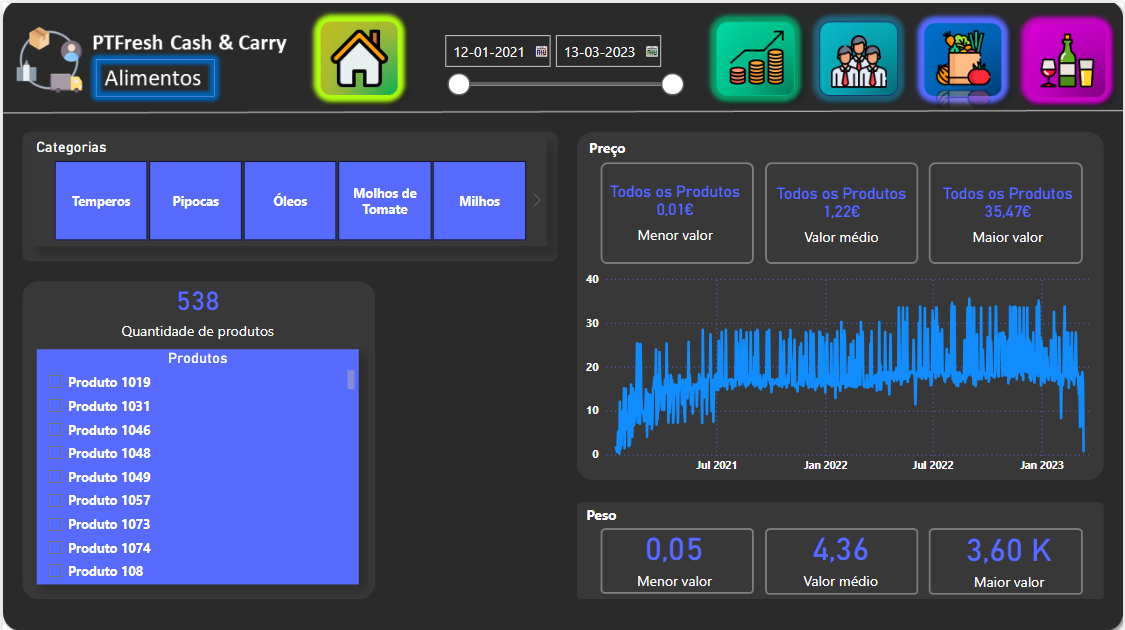

The page's visual inventory and layout, read from the dashboard file:
{"tool":"powerbi","page":{"name":"Alimentos","canvas":[1280,720],"ordinal":3},"visuals":[{"type":"slicer","title":"Produtos","fields":{"Values":["Alimentos.Nome Produto"]},"box":[37.9,395.8,368.3,268.5],"z":0},{"type":"card","title":"Preço Unitário Mínimo","fields":{"Values":["Medidas.Quantidade de alimentos"]},"box":[37.9,309.8,368.3,79.2],"z":1000},{"type":"slicer","title":"Categorias","fields":{"Values":["Alimentos.Categoria Produto"]},"box":[32.7,154.9,588.5,123.9],"z":2000},{"type":"lineChart","title":"Evolução do Preço Unitário","fields":{"Y":["Medidas.Evolucao de preco do produto"],"Category":["Datas.Data Venda.Variação.Hierarquia de Datas.Ano"]},"box":[660.7,301.9,603.8,244.9],"z":3000},{"type":"slicer","fields":{"Values":["Datas_venda.Data Venda"]},"box":[492.6,12.3,293.7,102.9],"z":4000},{"type":"image","box":[365.5,26.2,83.3,75],"z":5000},{"type":"image","box":[1179.8,29.8,72.6,71.4],"z":6000},{"type":"image","box":[825.1,23.3,71.5,79.2],"z":7000},{"type":"card","title":"Peso","fields":{"Values":["Medidas.ValorMinPeso"]},"box":[661.9,579.5,212.2,104.3],"z":8000},{"type":"card","title":"Preço Unitário Mínimo","fields":{"Values":["Medidas.MediaPeso"]},"box":[843.8,578.3,226.7,105.5],"z":9000},{"type":"card","title":"Preço Unitário Mínimo","fields":{"Values":["Medidas.ValorMaxPeso"]},"box":[1036.6,579.5,225.5,105.5],"z":10000},{"type":"card","title":"Preço ","fields":{"Values":["Medidas.ValorMinProduto"]},"box":[670.4,180.6,196.4,112.7],"z":11000},{"type":"card","title":"Preço Unitário Mínimo","fields":{"Values":["Medidas.MediaPreco"]},"box":[848.6,185.5,219.4,106.7],"z":12000},{"type":"card","title":"Preço Unitário Mínimo","fields":{"Values":["Medidas.ValorMaxProduto"]},"box":[1031.7,185.5,234,106.7],"z":13000},{"type":"image","box":[941.7,29.8,73.8,73.8],"z":14000},{"type":"textbox","box":[664.4,149.1,84.9,33.9],"z":15000},{"type":"textbox","box":[660.7,568.6,84.9,33.9],"z":16000}]}

Visuals, with their boxes in screenshot pixels (x1, y1, x2, y2), scaled from the page's 1280x720 canvas onto the 1125x630 screenshot:
"Produtos" slicer: [33,346,357,581]
"Preço Unitário Mínimo" card: [33,271,357,340]
"Categorias" slicer: [29,136,546,244]
"Evolução do Preço Unitário" lineChart: [581,264,1111,478]
slicer - Datas_venda.Data Venda: [433,11,691,101]
image: [321,23,394,89]
image: [1037,26,1101,89]
image: [725,20,788,90]
"Peso" card: [582,507,768,598]
"Preço Unitário Mínimo" card: [742,506,941,598]
"Preço Unitário Mínimo" card: [911,507,1109,599]
"Preço " card: [589,158,762,257]
"Preço Unitário Mínimo" card: [746,162,939,256]
"Preço Unitário Mínimo" card: [907,162,1112,256]
image: [828,26,893,91]
textbox: [584,130,659,160]
textbox: [581,498,655,527]
